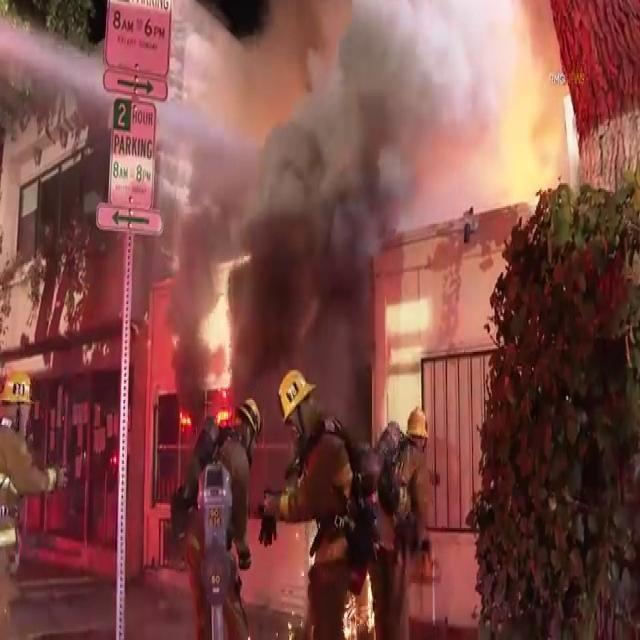Fire: (340, 564, 379, 640)
Smoke: (145, 0, 481, 364)
